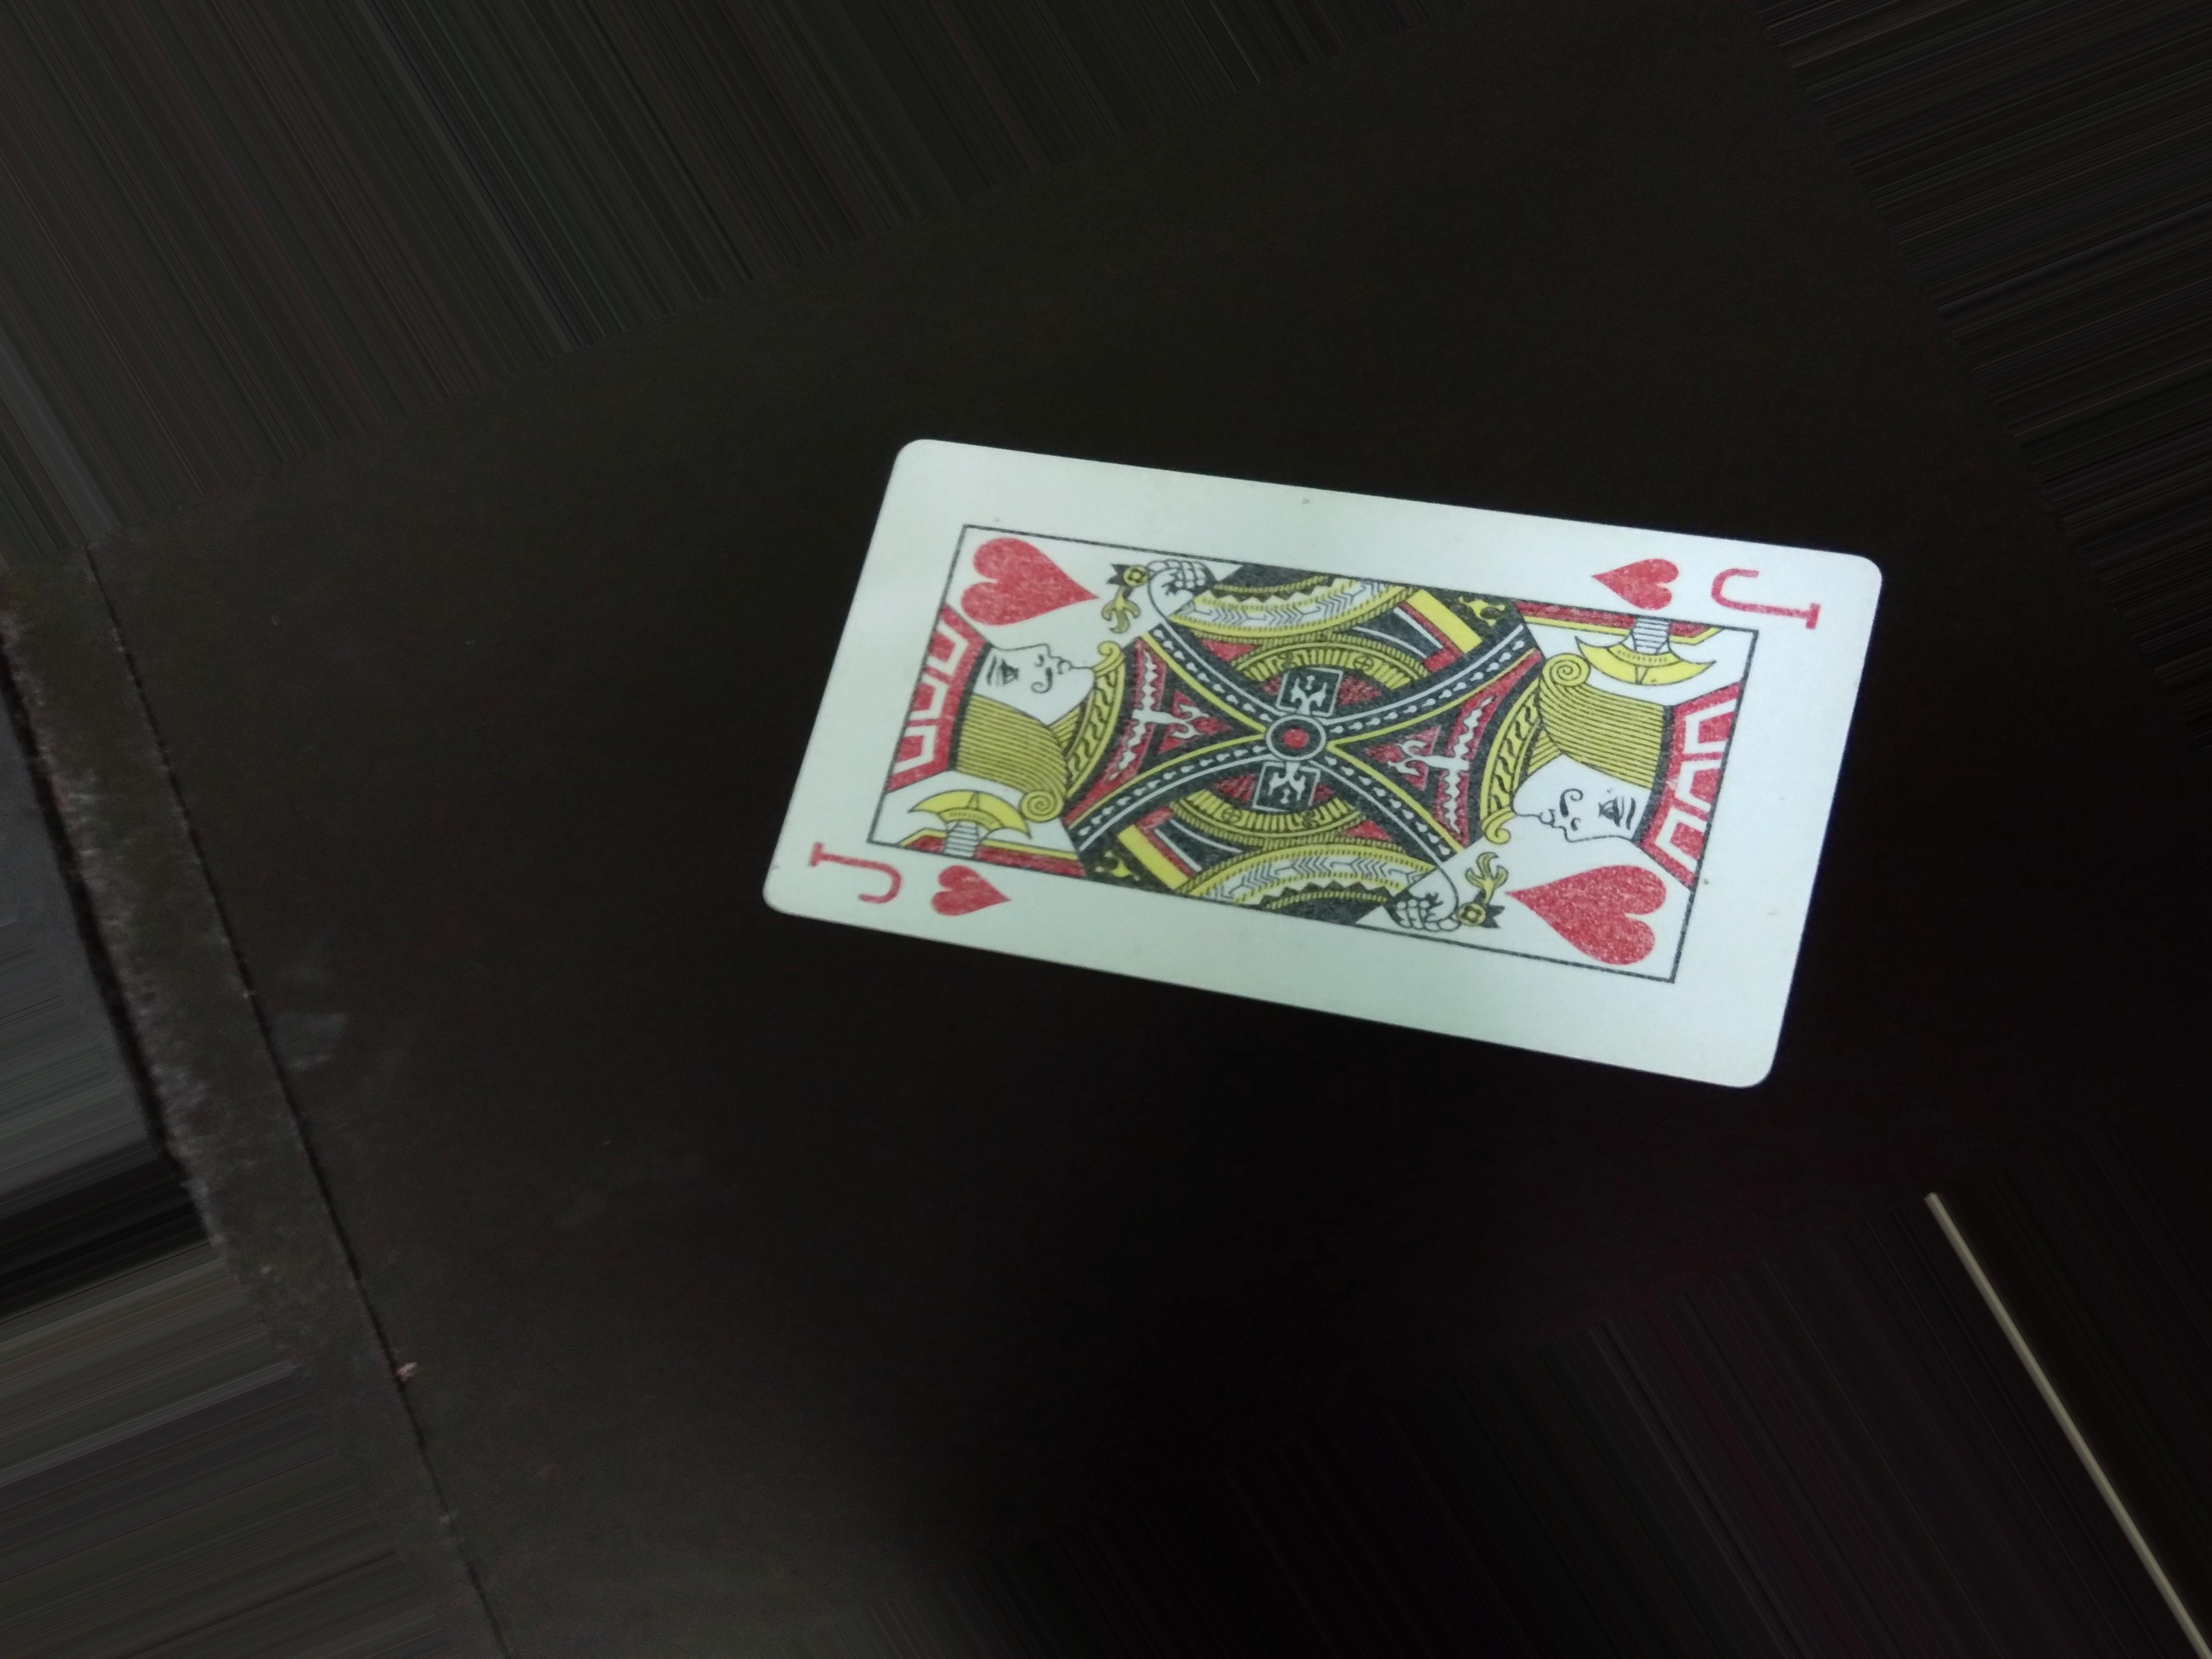JH: (1581, 545, 1843, 647)
